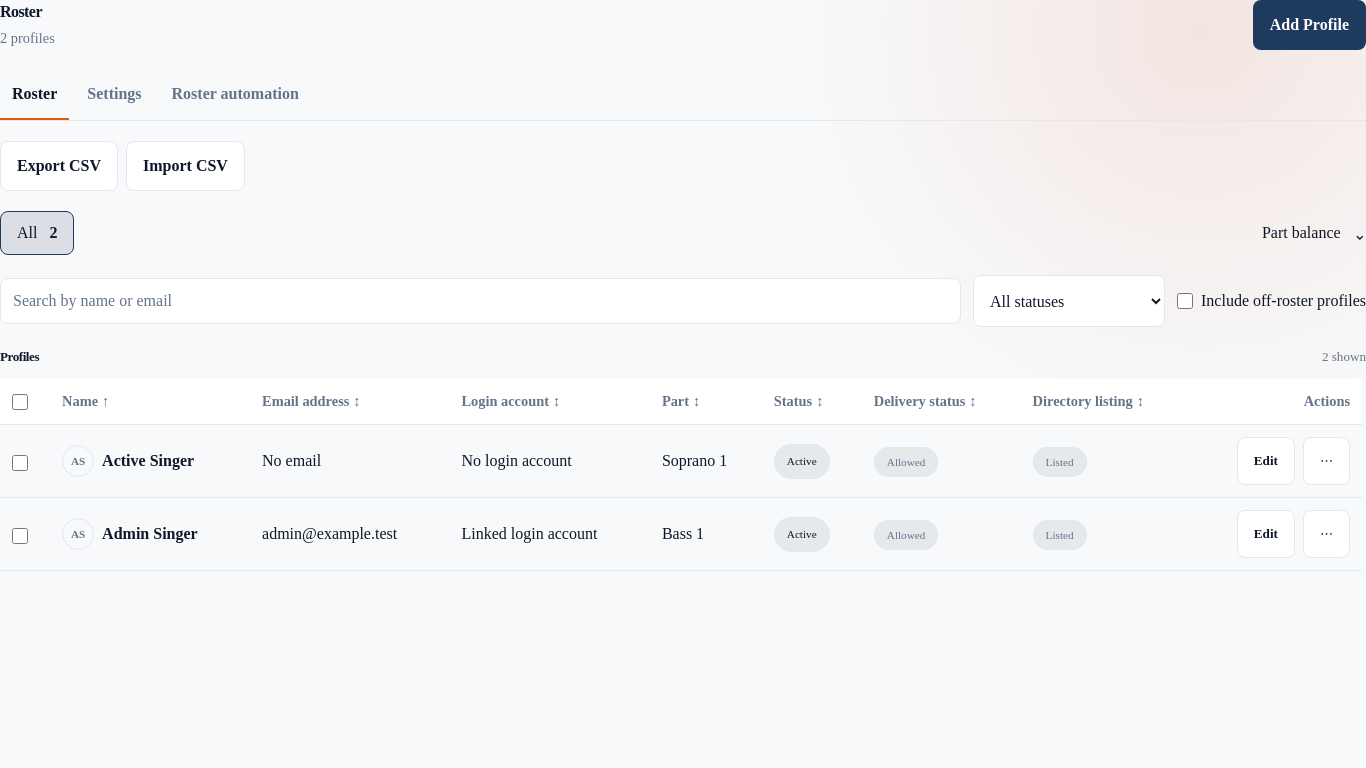
RosterPage Safe Profile Removal (#169) › archives an active profile with confirmation modal and updates UI
Click the button named "More actions for Active Singer". click: (1326, 461)
box: [1303,437,1350,485]
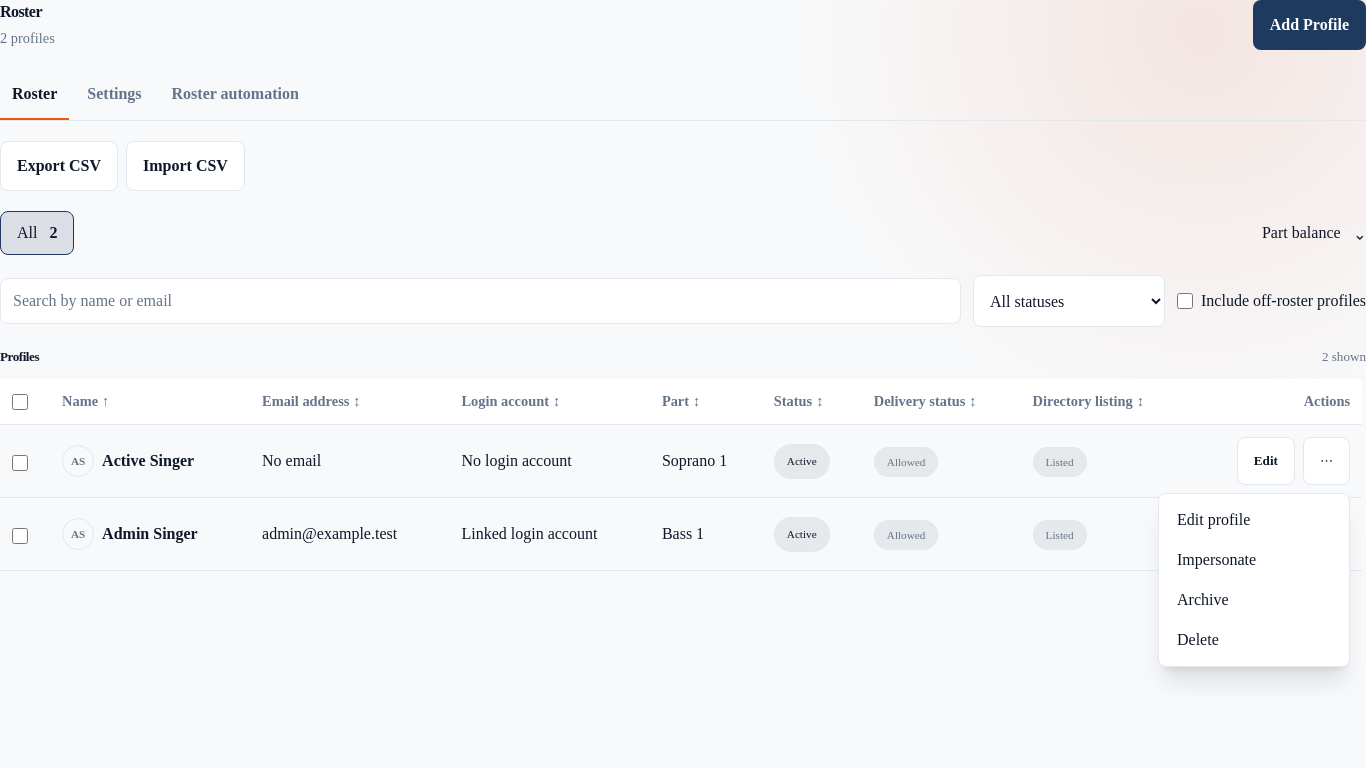
expect the menu item "Archive" is shown: met
Click the menu item "Archive". click: (1254, 600)
box: [1165,580,1343,620]
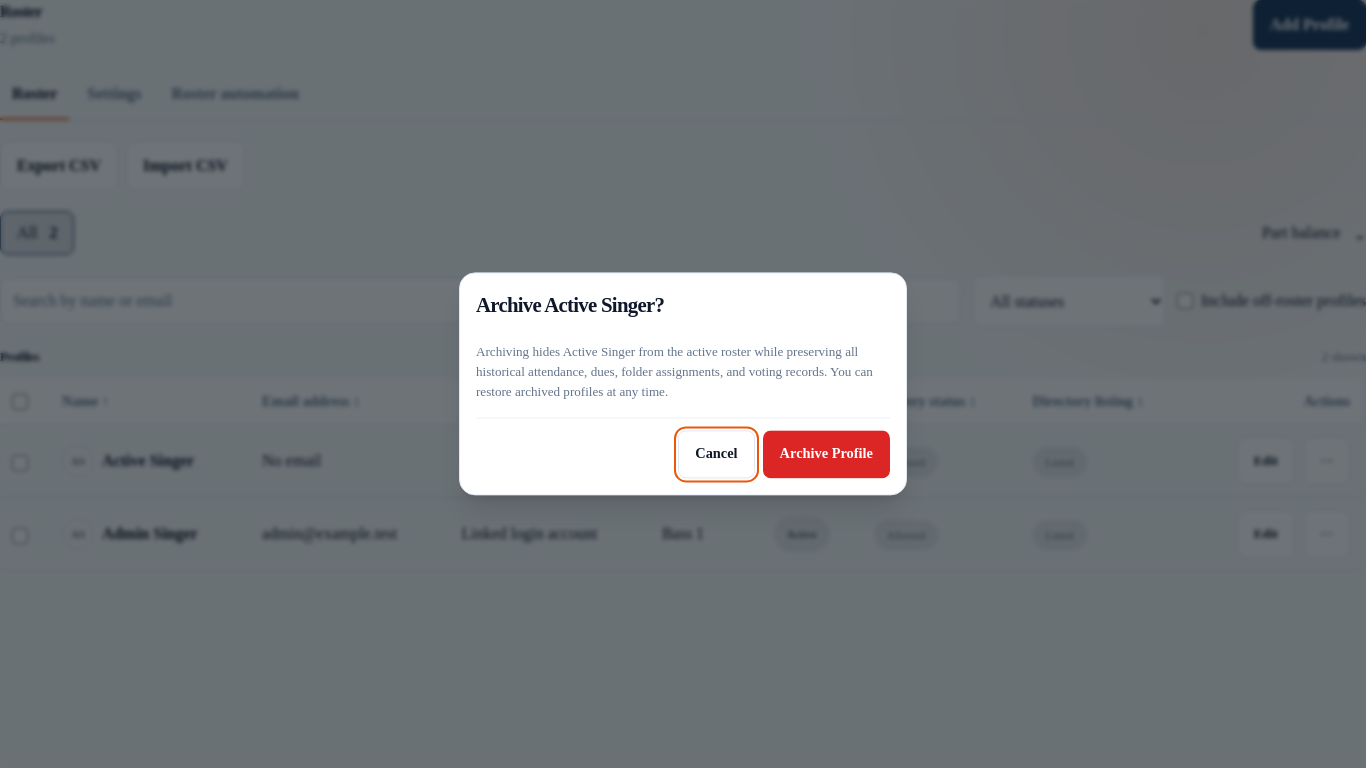
expect the heading "Archive Active Singer?" is shown: met, box [476,289,664,321]
expect the text "Archiving hides Active Singer from the active roster while preserving all historical attendance" is shown: met, box [476,345,873,399]
Confirm archive
Click the button "Archive Profile". click: (826, 455)
box: [763,431,890,479]
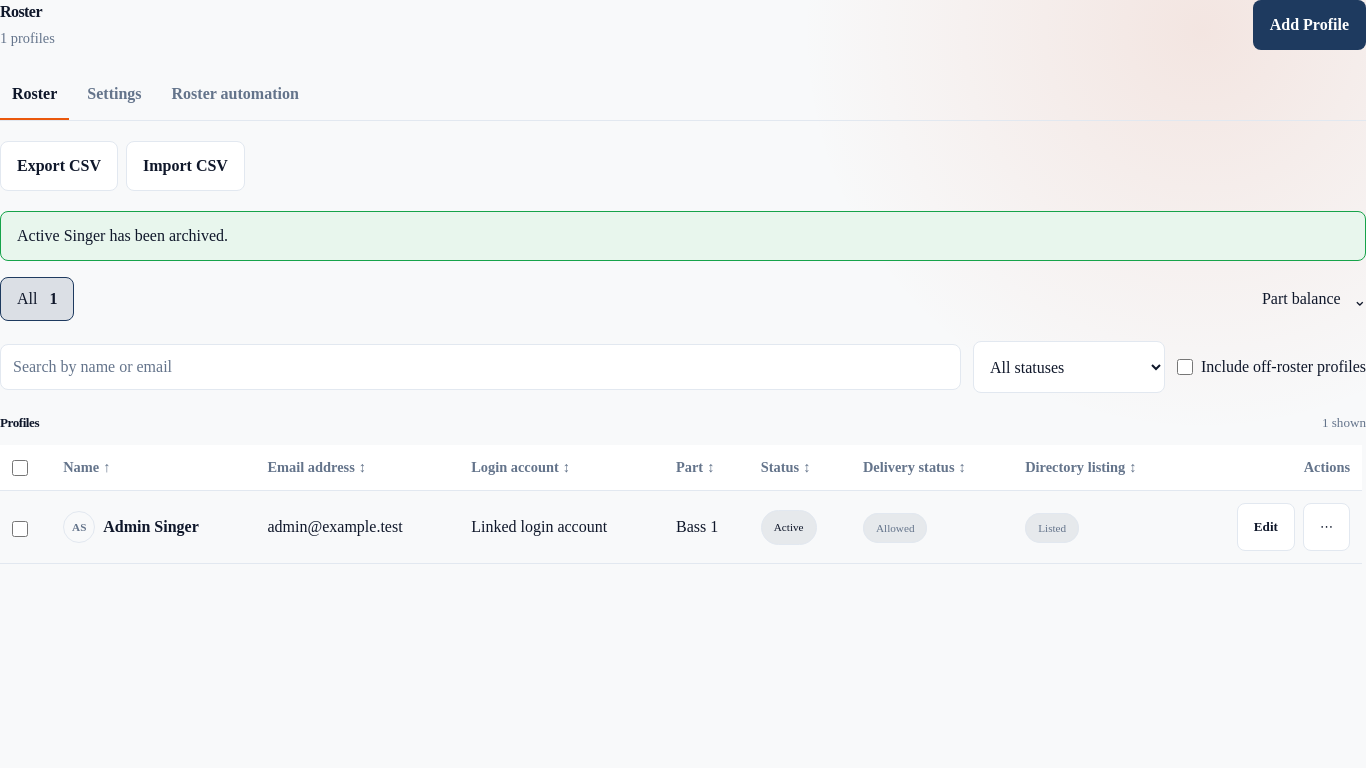
expect the text "Active Singer has been archived." is shown: met, box [0,211,1365,261]
